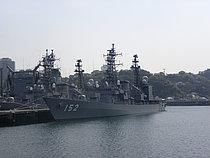MIL_Ship: (44, 42, 167, 118)
